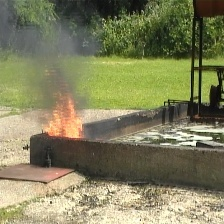fire: (40, 92, 85, 138)
